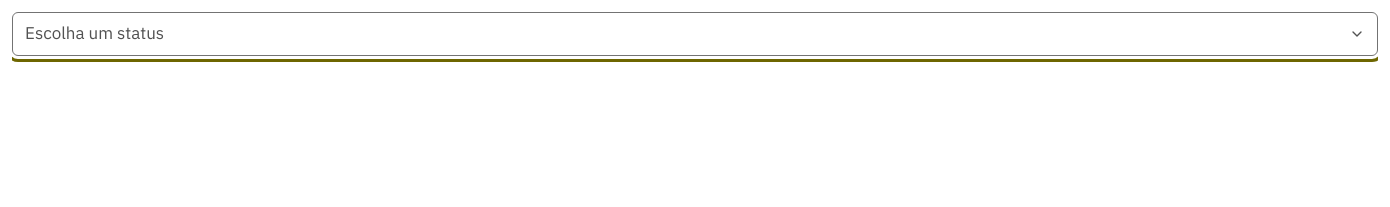
Test: Select › opens with the keyboard and selects an option
Press Enter
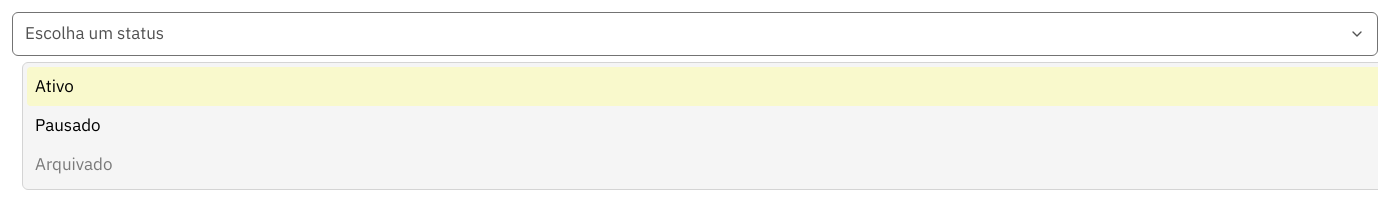
Click the option "Pausado". click: (68, 125)
box: [35,114,101,136]
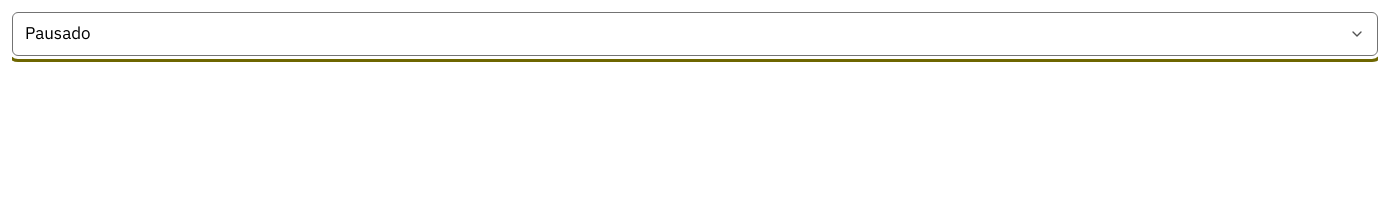
Expected: the dropdown named "Status" reads "Pausado", [12,12,1378,56]
